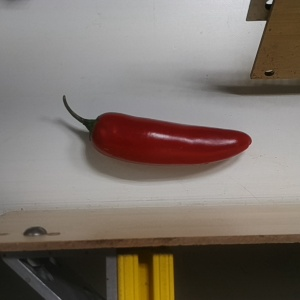Cut Point: (79, 109, 116, 153)
